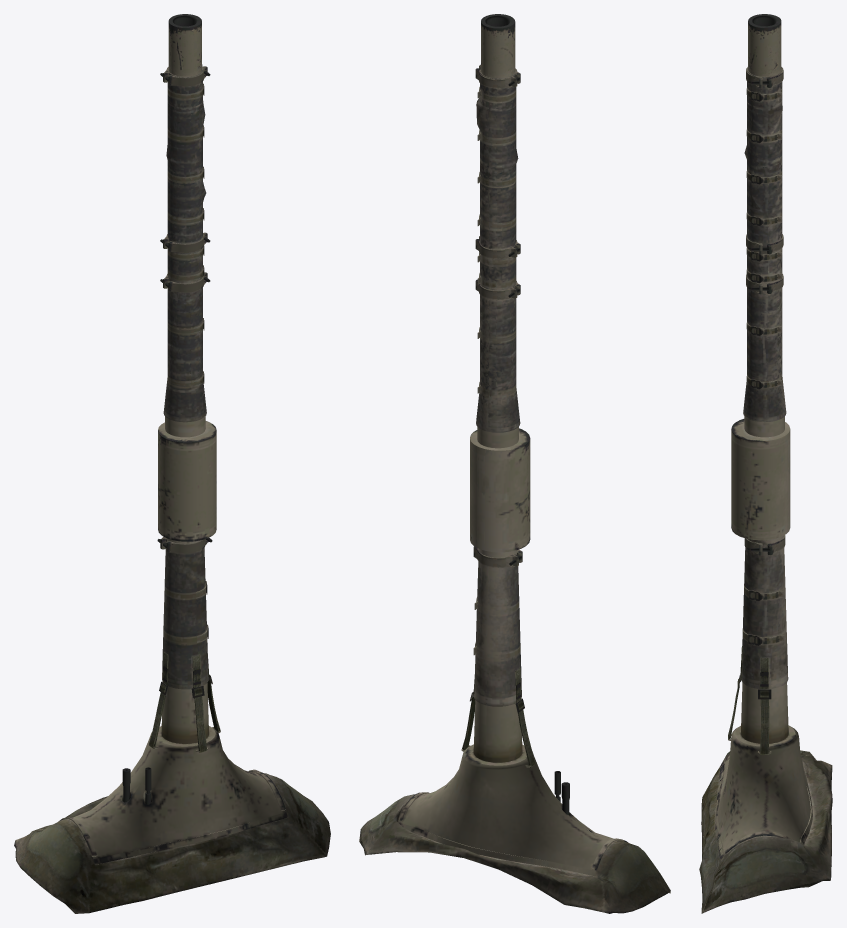
The model's file is Gun_01.glb.
The picture shows the model from 3 angles, left to right: view 1: azimuth 30°, elevation 25°; view 2: azimuth 150°, elevation 25°; view 3: azimuth 270°, elevation 25°; orthographic projection. The views are drawn at different scales.
Visible parts, largest first — view 1: set_0_group_0; view 2: set_0_group_0; view 3: set_0_group_0.
Boxes of the visible parts, box(x1,y1,x2,y2) form: set_0_group_0: box(14, 14, 330, 913); set_0_group_0: box(359, 14, 670, 913); set_0_group_0: box(699, 14, 832, 913).
Size of the model in its own units: 1.57 by 4.44 by 0.6399.
1 material, 1 textured.
